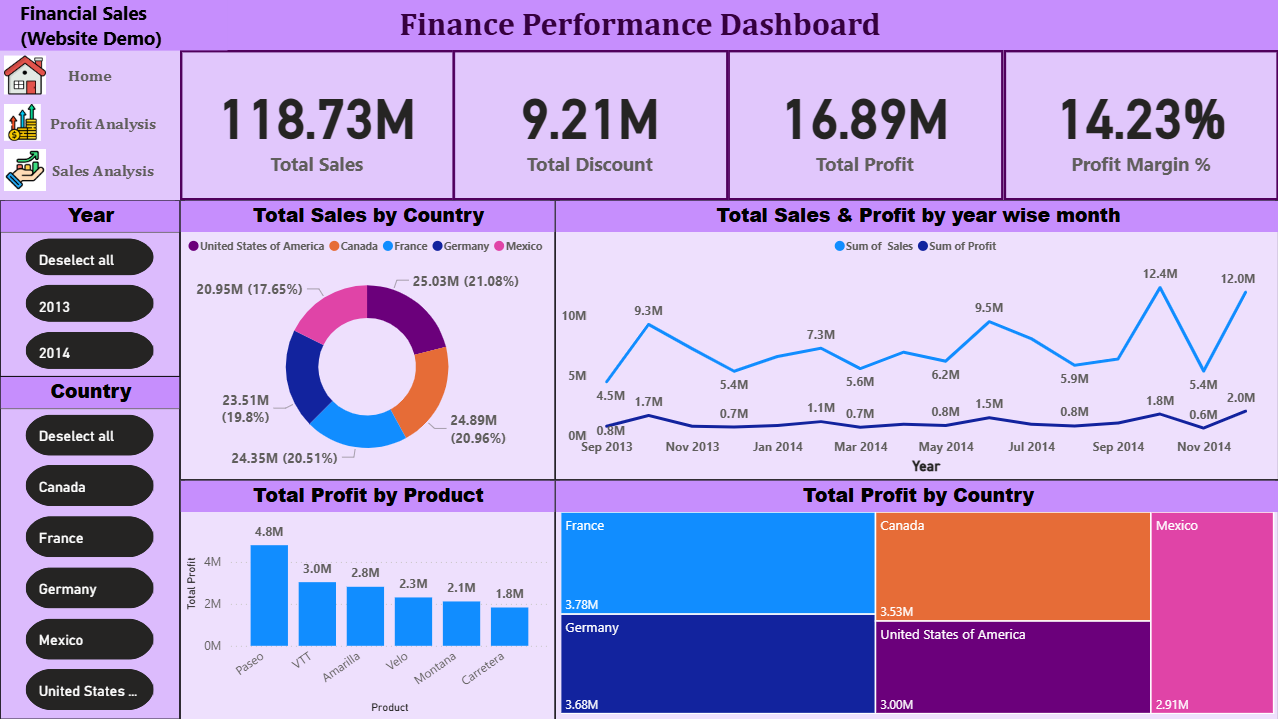

Layout of this report page (visuals, bound fields, positions):
{"tool":"powerbi","page":{"name":"Q9 (Home)","canvas":[1280,720],"ordinal":9},"visuals":[{"type":"shape","box":[0,50,180,670],"z":0},{"type":"textbox","box":[0,0,1280,50],"z":1000},{"type":"card","fields":{"Values":["financials.Total Profit"]},"box":[728,50,276,150],"z":2000},{"type":"card","fields":{"Values":["financials.Total Sales"]},"box":[180,50,275,150],"z":3000},{"type":"card","fields":{"Values":["financials.Total Discount"]},"box":[452,50,276,150],"z":4000},{"type":"card","fields":{"Values":["financials.Profit Margin %"]},"box":[1004,50,276,150],"z":5000},{"type":"actionButton","box":[0,50,180,50],"z":6000},{"type":"actionButton","box":[0,100,180,45],"z":7000},{"type":"actionButton","box":[0,145,180,50],"z":8000},{"type":"donutChart","title":"Total Sales by Country","fields":{"Y":["Sum(financials. Sales)"],"Category":["financials.Country"]},"box":[180,200,375,280],"z":10000},{"type":"lineChart","title":"Total Sales & Profit by year wise month","fields":{"Category":["financials.Date.Variation.Date Hierarchy.Year","financials.Date.Variation.Date Hierarchy.Quarter","financials.Date.Variation.Date Hierarchy.Month","financials.Date.Variation.Date Hierarchy.Day"],"Y":["Sum(financials. Sales)","Sum(financials.Profit)"]},"box":[555,200,725,280],"z":11000},{"type":"clusteredColumnChart","fields":{"Category":["financials.Product"],"Y":["financials.Total Profit"]},"box":[180,480,375,240],"z":12000},{"type":"treemap","title":"Total Profit by Country","fields":{"Group":["financials.Country"],"Values":["Sum(financials.Profit)"]},"box":[555,480,725,240],"z":13000},{"type":"advancedSlicerVisual","fields":{"Values":["financials.Date.Variation.Date Hierarchy.Year"]},"box":[0,200,180,176.7],"z":14000},{"type":"advancedSlicerVisual","fields":{"Values":["financials.Country"]},"box":[0,376.7,180,343.3],"z":15000},{"type":"shape","box":[0,0,227,50],"z":16501}]}

Visuals, with their boxes in screenshot pixels (x1, y1, x2, y2), scaled from the page's 1280x720 canvas onto the 1278x719 screenshot:
shape: box(0, 50, 180, 718)
textbox: box(0, 0, 1277, 50)
card - financials.Total Profit: box(727, 50, 1002, 200)
card - financials.Total Sales: box(180, 50, 454, 200)
card - financials.Total Discount: box(451, 50, 727, 200)
card - financials.Profit Margin %: box(1002, 50, 1277, 200)
actionButton: box(0, 50, 180, 100)
actionButton: box(0, 100, 180, 145)
actionButton: box(0, 145, 180, 195)
"Total Sales by Country" donutChart: box(180, 200, 554, 479)
"Total Sales & Profit by year wise month" lineChart: box(554, 200, 1277, 479)
clusteredColumnChart - financials.Product x financials.Total Profit: box(180, 479, 554, 718)
"Total Profit by Country" treemap: box(554, 479, 1277, 718)
advancedSlicerVisual - financials.Date.Variation.Date Hierarchy.Year: box(0, 200, 180, 376)
advancedSlicerVisual - financials.Country: box(0, 376, 180, 718)
shape: box(0, 0, 227, 50)
